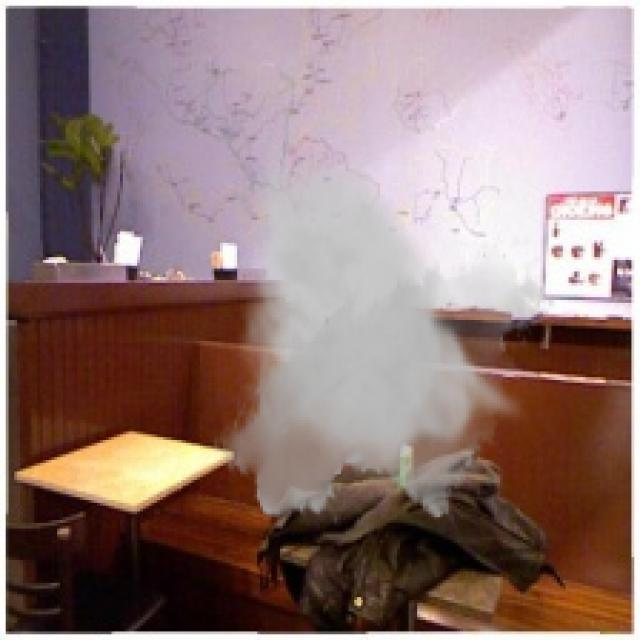Smoke: (212, 140, 557, 529)
